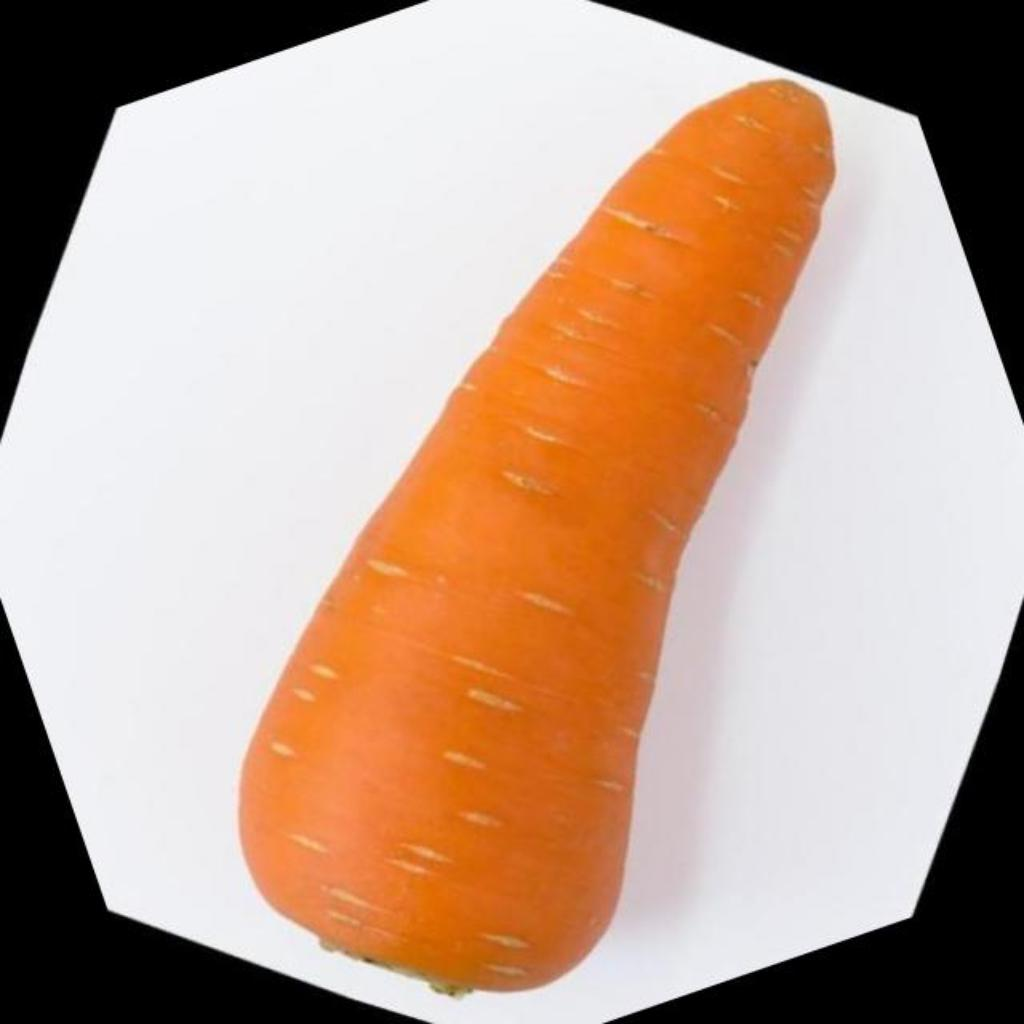carrot: (240, 82, 834, 992)
